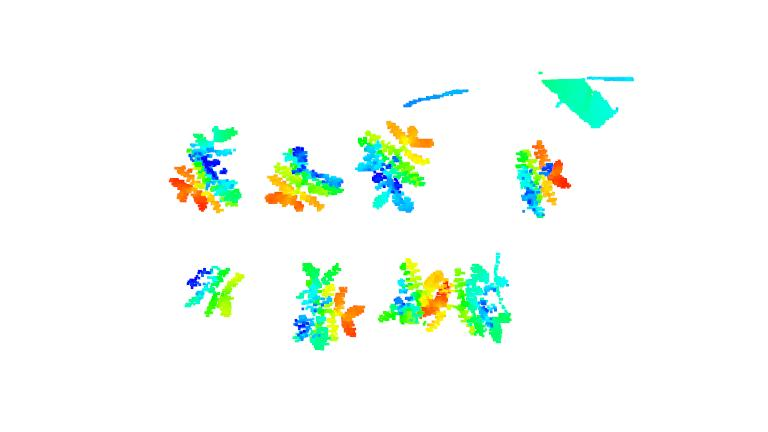chickpea: (354, 119, 436, 213), (165, 124, 247, 214), (450, 253, 518, 344), (292, 261, 363, 348), (378, 260, 452, 330), (266, 145, 344, 211), (514, 140, 572, 219), (185, 265, 243, 319)
